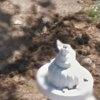Statue: (40, 36, 93, 100)
